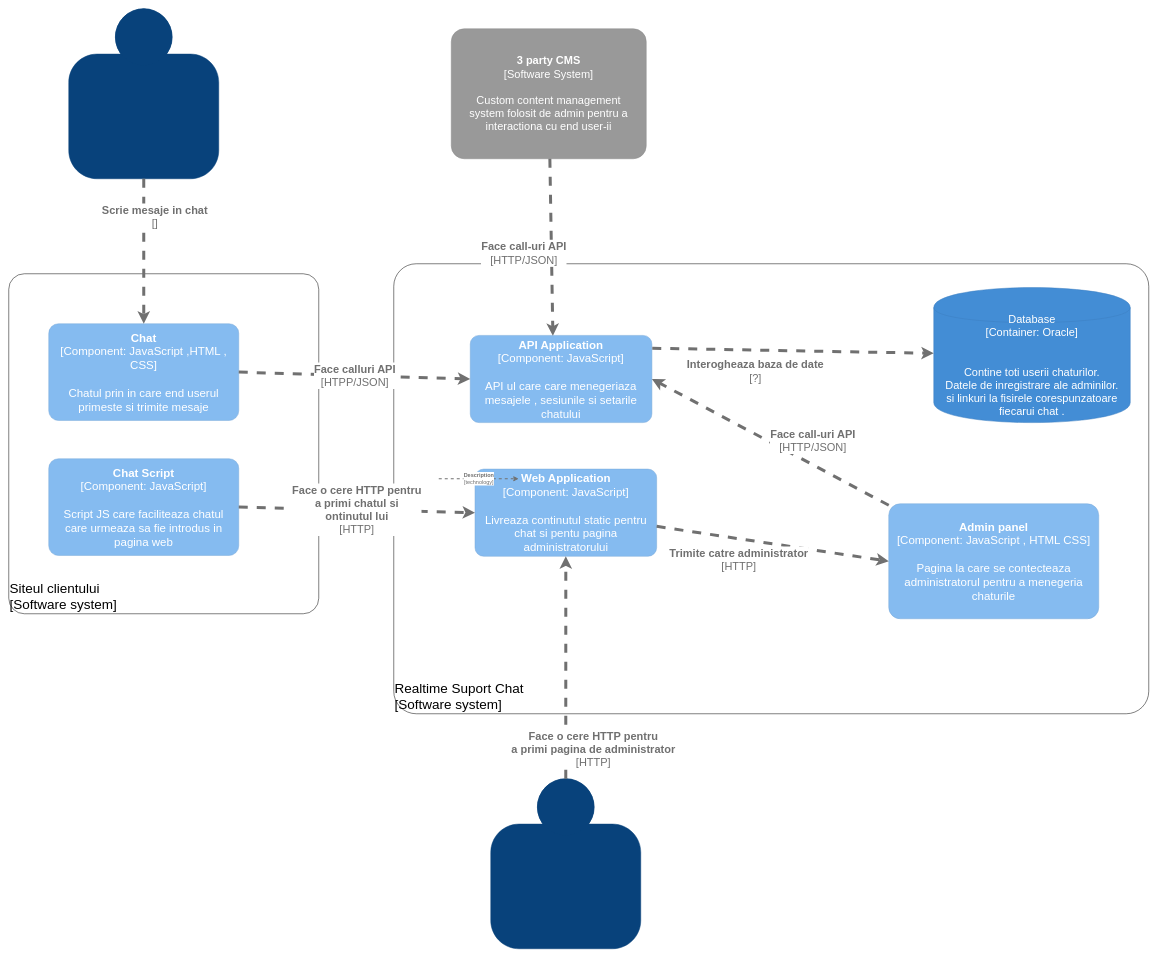
Some shapes in this 1163 by 958 pixel diagram are drawn without their labels. Here are the shapes that lost their labels. From the top down, the centre of each, then its label:
point 143,93: End user [Person] Persoana care foloseste pop-up chatul implementat de client
point 565,863: Admin [Person] Persoana care interactioneaza cu mai multe instante de chat
